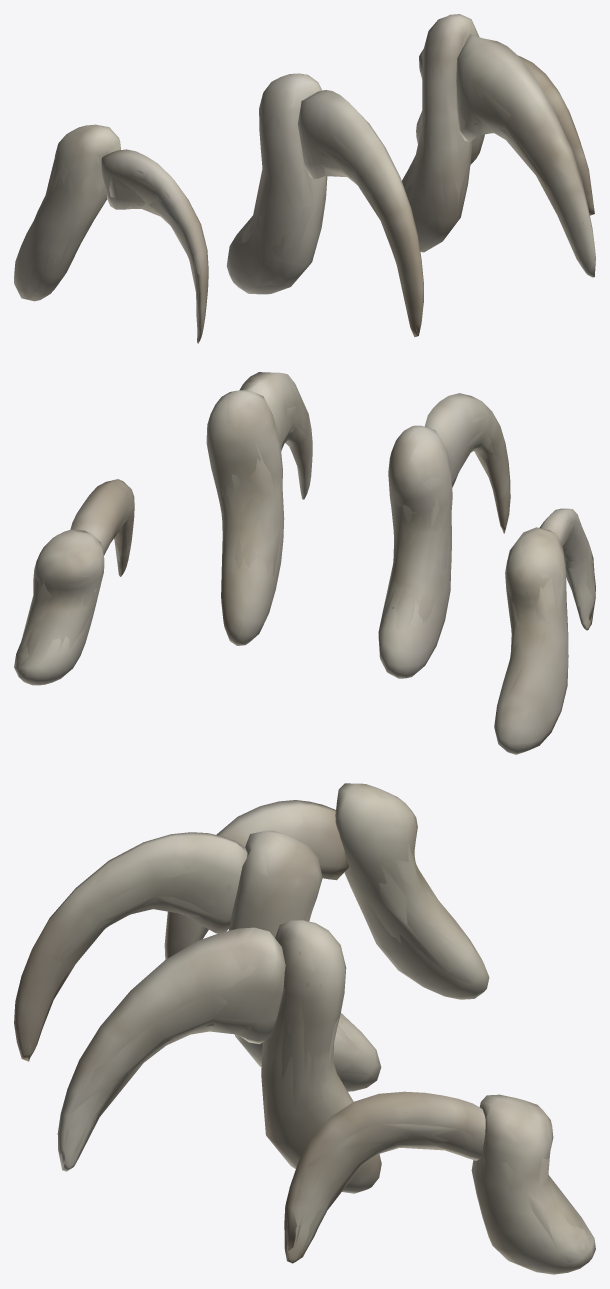
Rendered from LB 3rd Phalanx.fbx.
3 renders of one model, top to bottom at view 1: azimuth 30°, elevation 25°; view 2: azimuth 150°, elevation 25°; view 3: azimuth 270°, elevation 25°, orthographic. The views are drawn at different scales.
Visible parts, largest first — view 1: LB 3rd Phalanx, LB 3rd Phalanx low, LB 3rd Phalanx high; view 2: LB 3rd Phalanx, LB 3rd Phalanx low, LB 3rd Phalanx high; view 3: LB 3rd Phalanx, LB 3rd Phalanx low, LB 3rd Phalanx high.
Part boxes in pixels (x1,y1,x2,y2): LB 3rd Phalanx: [14, 14, 595, 343]; LB 3rd Phalanx low: [14, 15, 595, 337]; LB 3rd Phalanx high: [15, 15, 592, 340]; LB 3rd Phalanx: [14, 372, 595, 754]; LB 3rd Phalanx low: [15, 373, 593, 748]; LB 3rd Phalanx high: [17, 393, 594, 747]; LB 3rd Phalanx: [14, 783, 595, 1274]; LB 3rd Phalanx low: [14, 785, 594, 1274]; LB 3rd Phalanx high: [17, 797, 593, 1269].
Size of the model in its own units: 1.88 by 0.878 by 1.58.
1 material, 1 textured.
